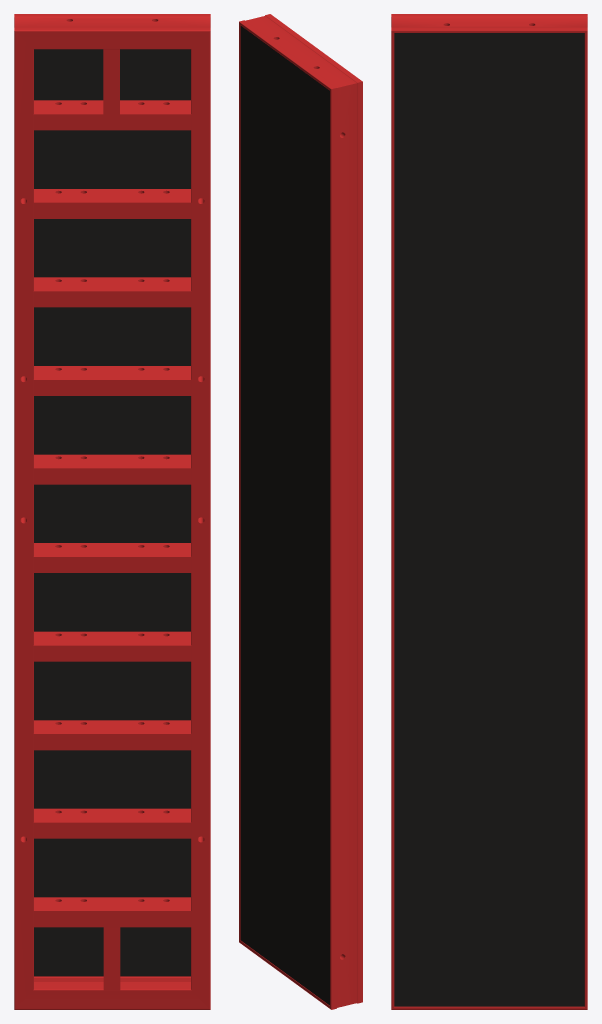
3 renders of one model, left to right at view 1: azimuth 90°, elevation 25°; view 2: azimuth 210°, elevation 25°; view 3: azimuth 270°, elevation 25°, orthographic. The views are drawn at different scales.
Visible parts, largest first — view 1: TR4_330x60_object; view 2: TR4_330x60_object; view 3: TR4_330x60_object.
Part boxes in pixels (x1,y1,x2,y2): TR4_330x60_object: (14, 14, 210, 1009); TR4_330x60_object: (239, 14, 362, 1009); TR4_330x60_object: (391, 14, 587, 1009).
Bounding box in the file's own units: 0.1201 × 3.3 × 0.6.
1 material, 1 textured.
